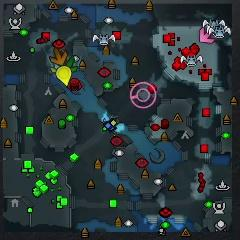p4: (56, 66, 72, 86)
x1: (199, 28, 215, 43)
x2: (49, 68, 56, 73)
x4: (68, 55, 77, 72)
x5: (50, 47, 67, 64)
